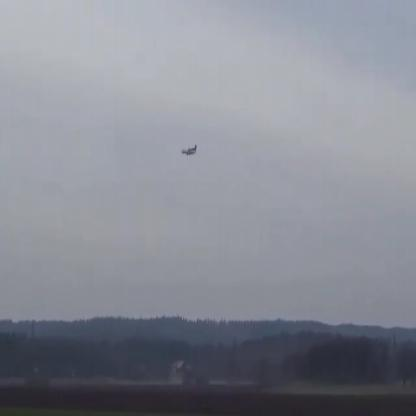CIV_Plane: (180, 145, 198, 157)
